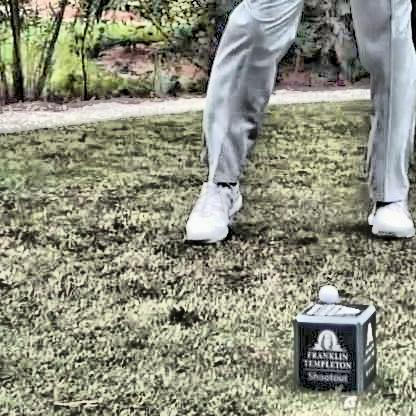golfball: (315, 281, 337, 303)
